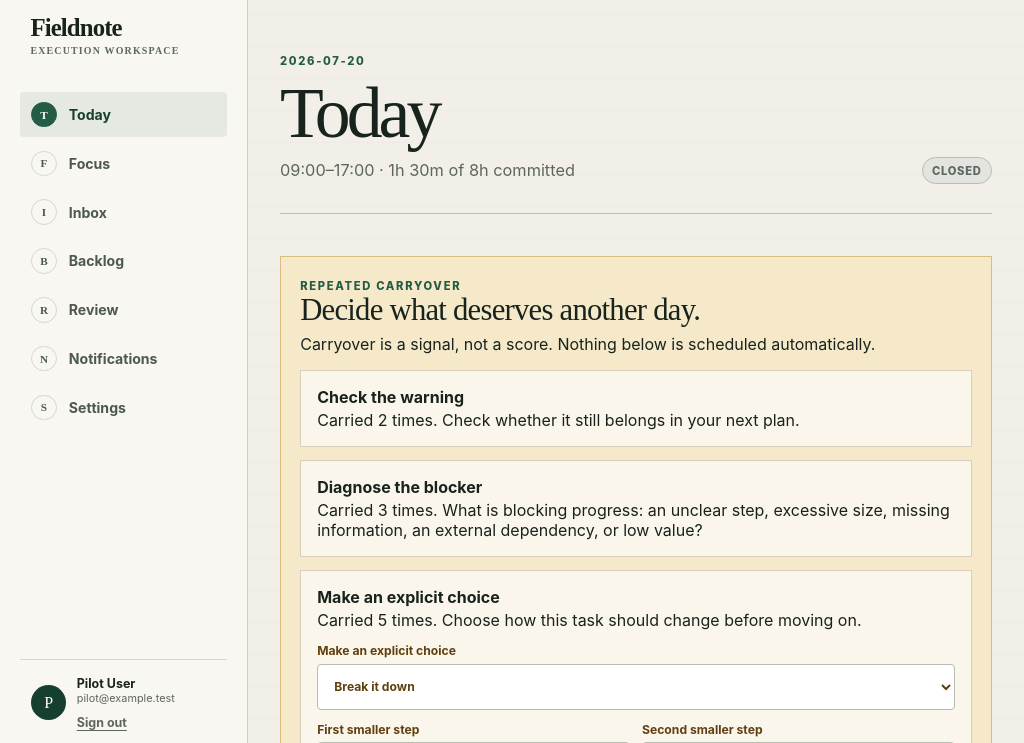
Test: authenticated application routing › shows carryover thresholds and records an explicit choice
Check: the text "Check whether it still belongs" is shown, box [442,410,800,430]
Check: the text "What is blocking progress" is shown, box [317,500,950,540]
Select "Recommit deliberately" in the dropdown labelled "Make an explicit choice": [636, 687] box [317,664,955,710]
(page scrolled)
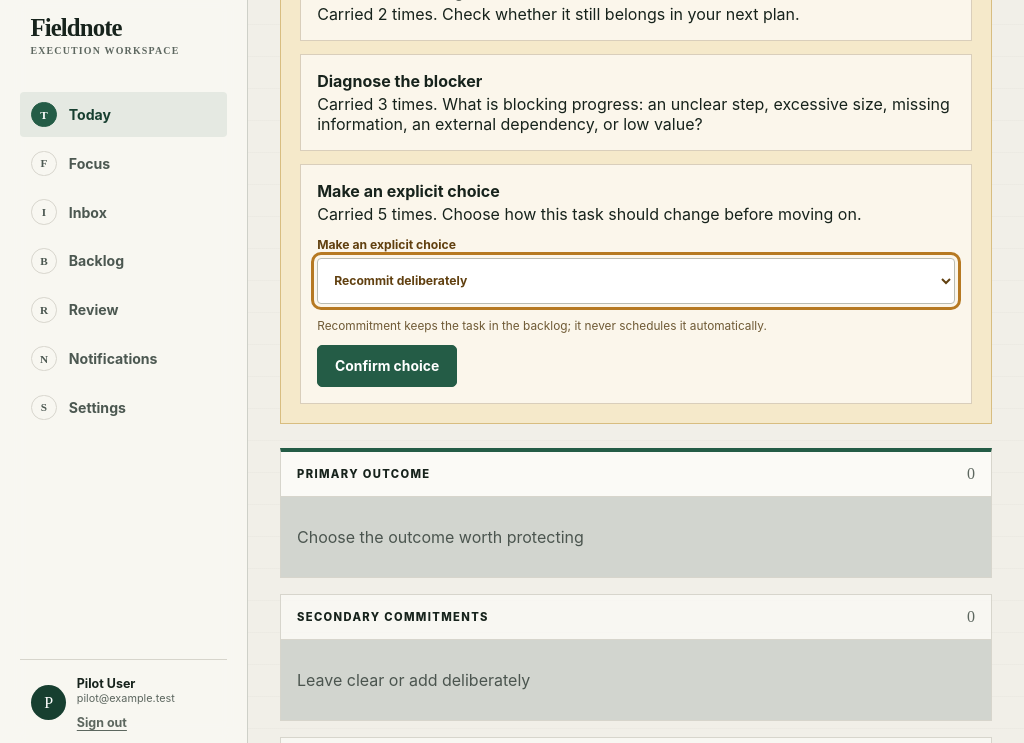
Click the button "Confirm choice": [387, 366] box [317,345,457,387]
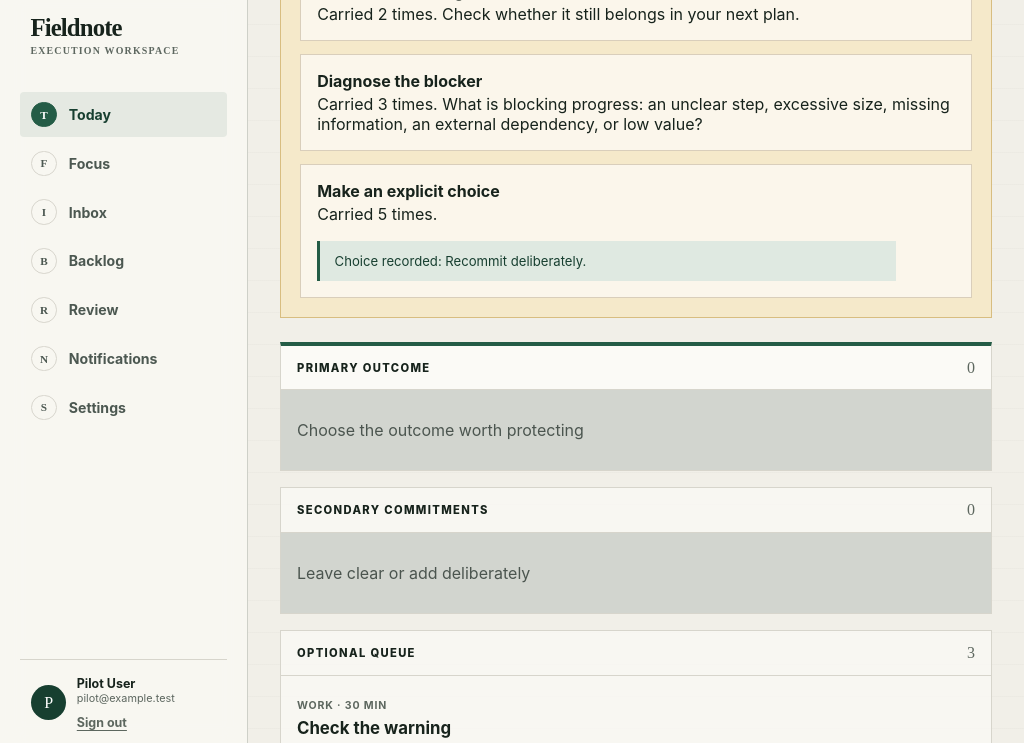
Check: the text "Choice recorded: Recommit deliberately." is shown, box [317,241,896,281]
